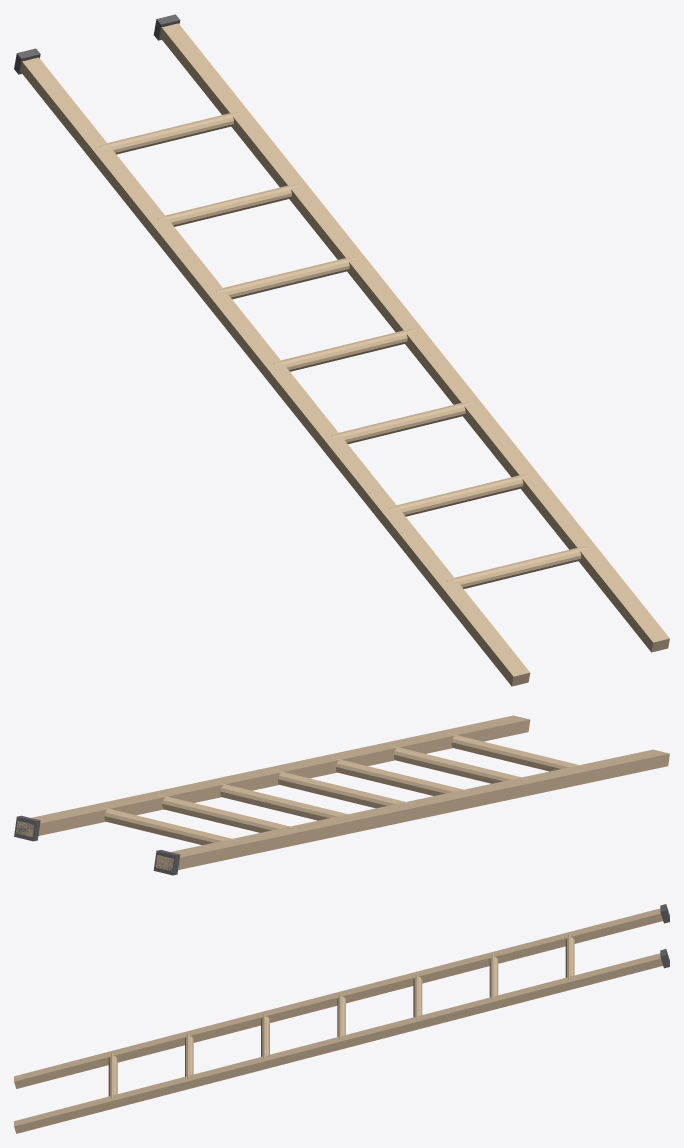
The model's file is ladder.glb.
3 renders of one model, top to bottom at view 1: azimuth 30°, elevation 25°; view 2: azimuth 150°, elevation 25°; view 3: azimuth 270°, elevation 25°, orthographic. The views are drawn at different scales.
Parts seen in each view (by area): view 1: wood; view 2: wood, metal_black; view 3: wood.
Part boxes in pixels (bbox=[...]): wood: bbox=[20, 23, 669, 686]; wood: bbox=[16, 715, 669, 870]; metal_black: bbox=[14, 815, 180, 875]; wood: bbox=[14, 908, 662, 1133].
Bounding box in the file's own units: 0.4268 × 0.699 × 2.32.
